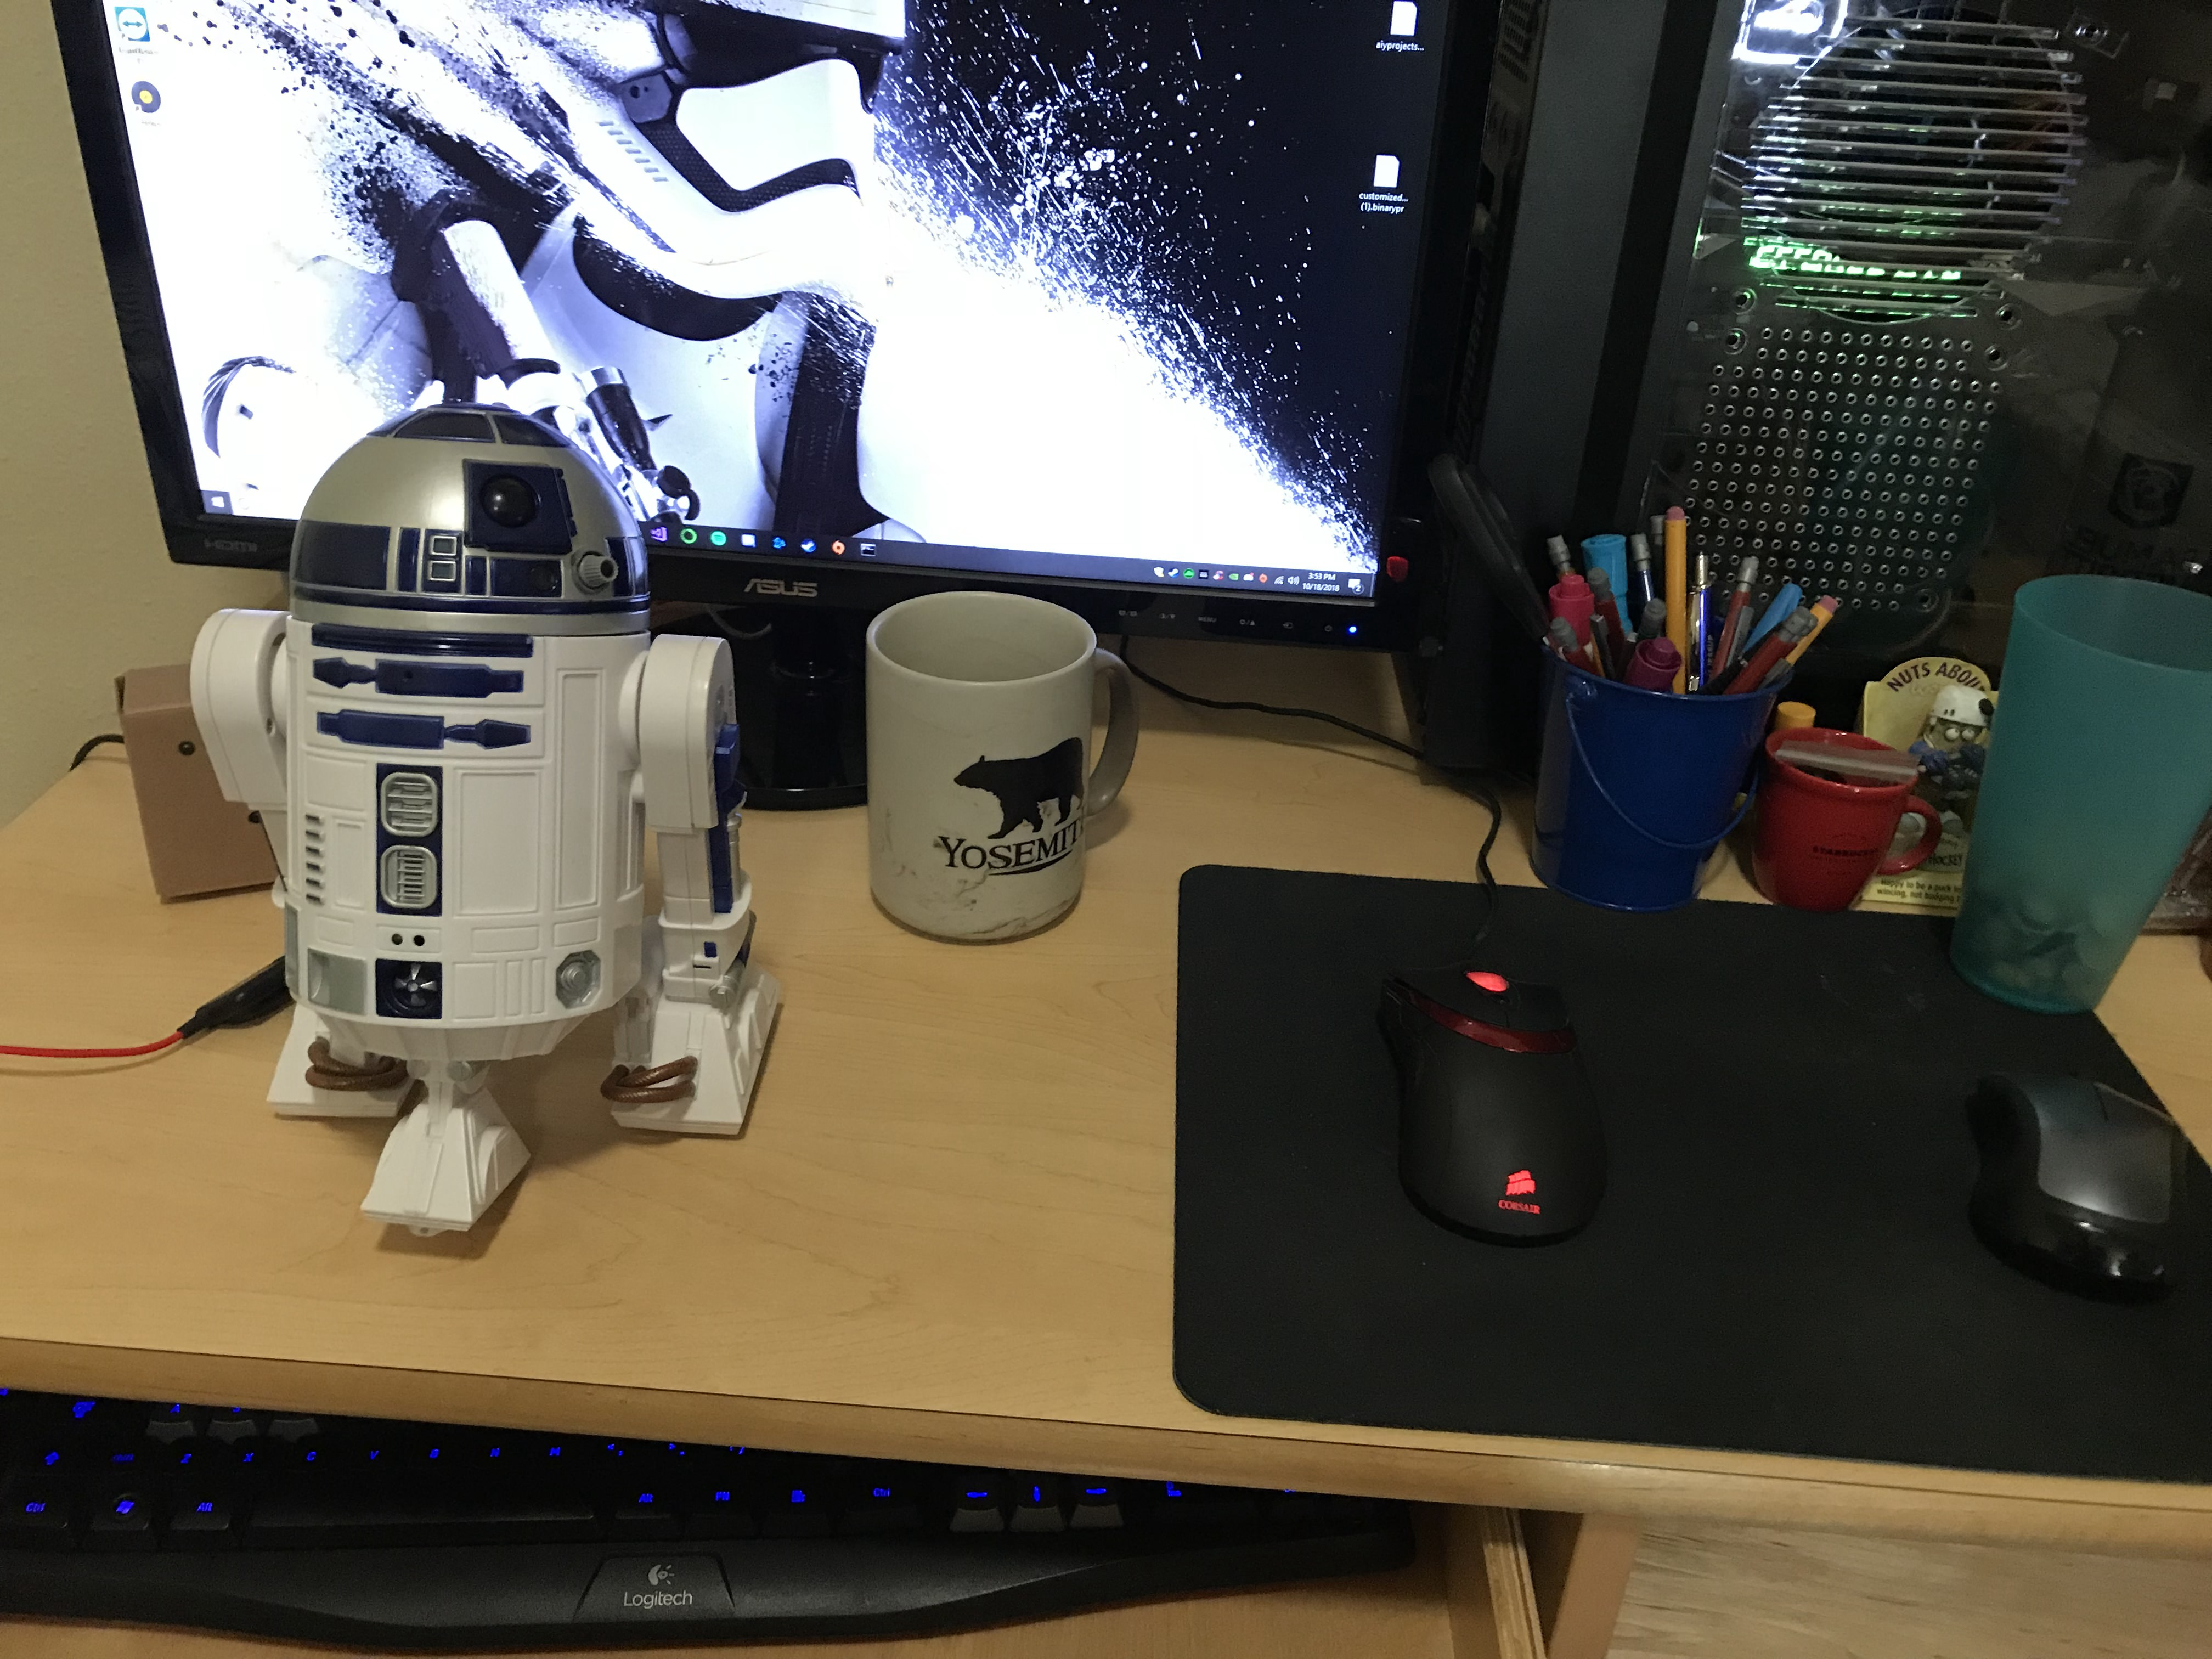r2d2: (186, 404, 780, 1237)
